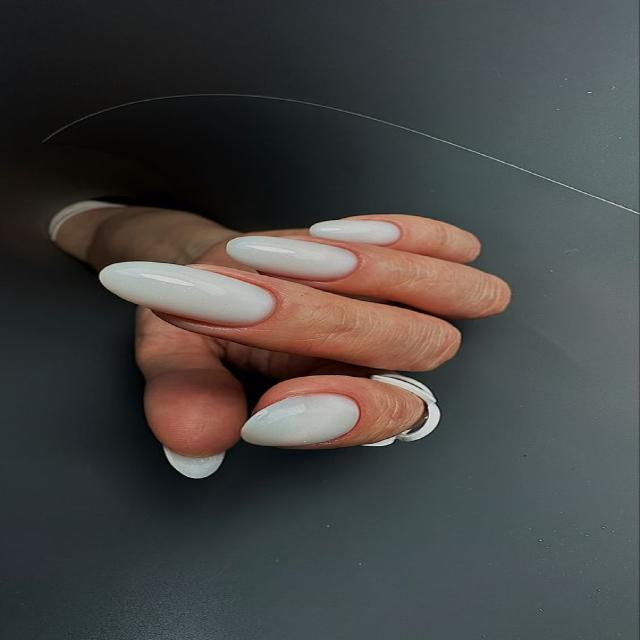Fingernail: (99, 261, 278, 327), (241, 393, 358, 446), (227, 237, 357, 279), (310, 221, 399, 245)
